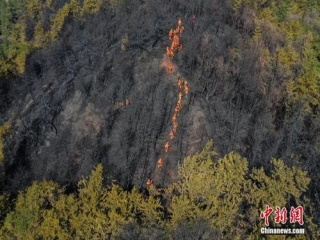fire: (157, 17, 194, 191)
